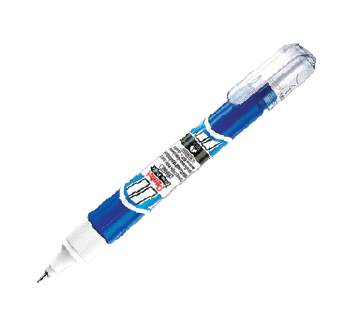Correction_fluid: (33, 39, 318, 290)
